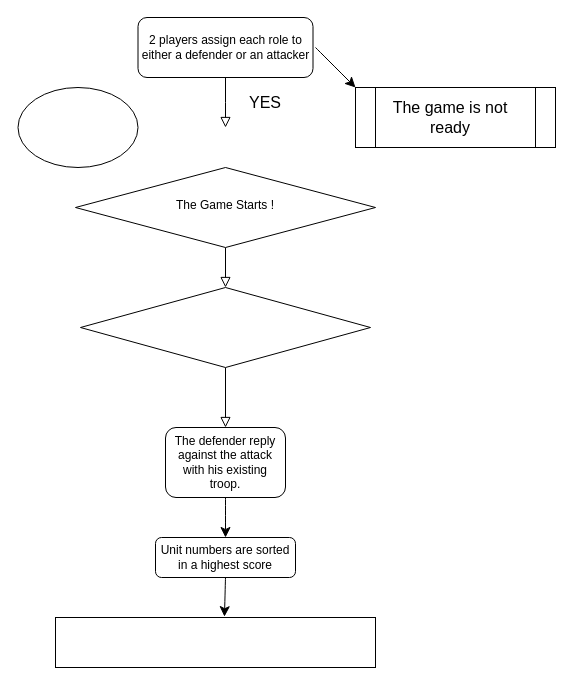
Some shapes in this 573 by 685 pixel diagram are drawn without their labels. The shapes that lost their labels are listed below. From the top down, each one's box as (x1, y1, x2, y2) in pixels, then its label:
(80, 286, 370, 368): The attacker is willing to combat with his troop.
(54, 616, 376, 668): each unit chosen by a defender and an attacker is compared as a pair.
